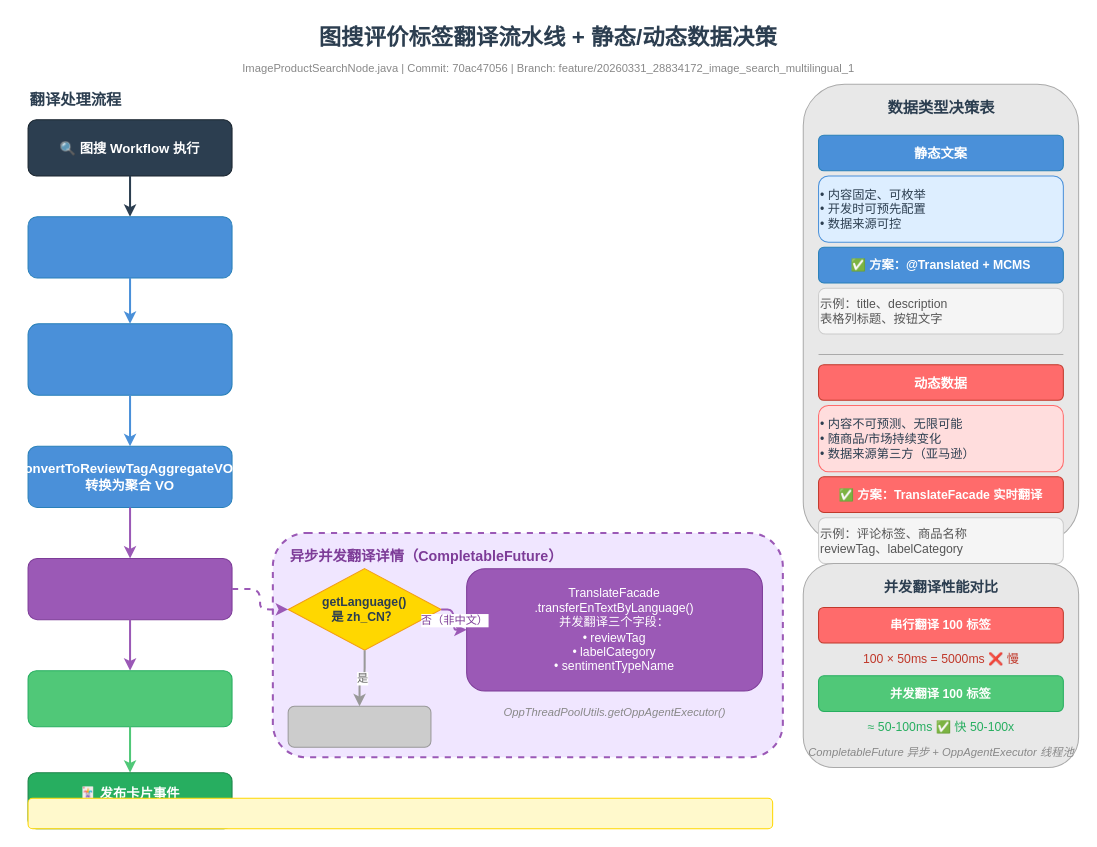
Some shapes in this 1097 by 847 pixel diagram are drawn without their labels. The shapes that lost their labels are listed below. From the top down, each one's centre as x and y in pixels, then its label:
At [129,247]: "productComment() 图搜商品节点".
At [129,359]: "aggReviewTag() 聚合评论标签 （以原始标签为 key）".
At [129,588]: "translateReviewTags() 调用翻译（核心步骤）".
At [129,698]: "sort() 按评论数量降序排列".
At [359,726]: "直接返回 （跳过翻译）".
At [400,813]: "经验教训：选择多语言方案前先判断数据类型！静态文案 → @Translated；动态数据 → 实时翻译服务".
